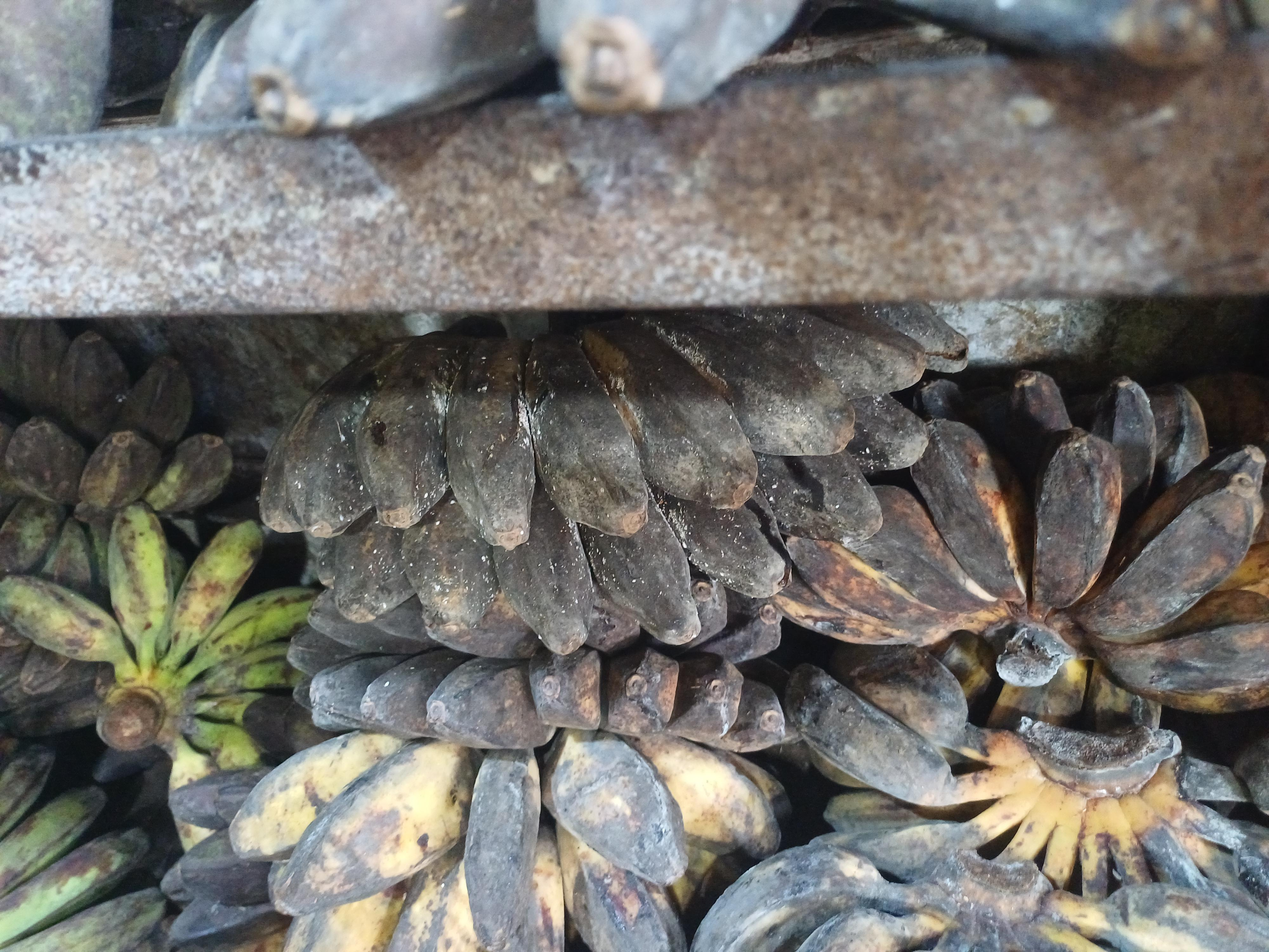overripe: (259, 301, 970, 656), (770, 370, 1269, 715), (285, 564, 786, 753), (784, 644, 997, 876), (161, 695, 334, 949), (687, 841, 940, 952), (1104, 880, 1269, 952)
ripe: (229, 730, 788, 952)
underripe: (0, 500, 323, 795), (0, 318, 234, 513), (0, 786, 170, 952), (0, 743, 58, 841)
